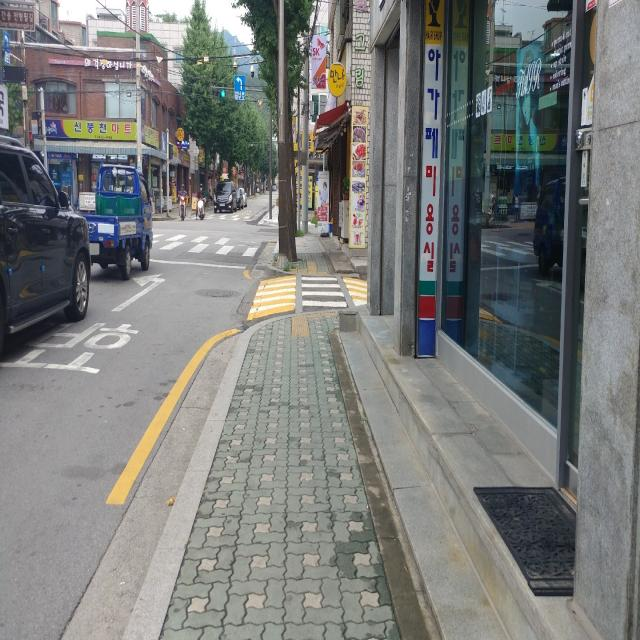횡단보도: (154, 232, 259, 261), (301, 276, 348, 308)
